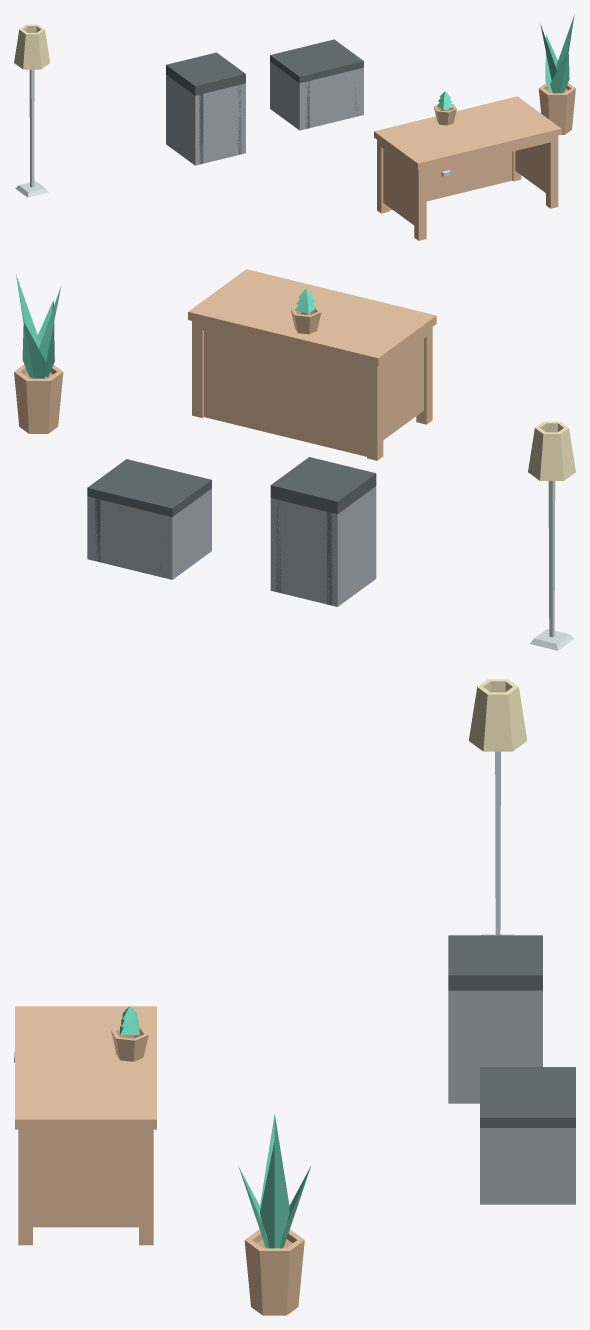
3 views of the same model, one above another, from view 1: azimuth 30°, elevation 25°; view 2: azimuth 150°, elevation 25°; view 3: azimuth 270°, elevation 25° (orthographic). The views are drawn at different scales.
Parts seen in each view (by area): view 1: desk_blue__desk(Clone), bin_gray__bin_gray shell, crate_red__crate_red shell, crate_red__crate_red lid, lamp_white__lampRoundFloor(Clone), bin_gray__bin_gray lid, plant_pink__pottedPlant(Clone), plant_pink__plant, flowerpot_green__plantSmall1(Clone), desk_blue__drawer, bin_gray__bin_gray band; view 2: desk_blue__desk(Clone), bin_gray__bin_gray shell, crate_red__crate_red shell, crate_red__crate_red lid, bin_gray__bin_gray lid, lamp_white__lampRoundFloor(Clone), plant_pink__pottedPlant(Clone), plant_pink__plant, flowerpot_green__plantSmall1(Clone), bin_gray__bin_gray band, crate_red__crate_red band.001; view 3: desk_blue__desk(Clone), bin_gray__bin_gray shell, crate_red__crate_red shell, crate_red__crate_red lid, bin_gray__bin_gray lid, lamp_white__lampRoundFloor(Clone), plant_pink__pottedPlant(Clone), plant_pink__plant, flowerpot_green__plantSmall1(Clone).
Boxes of the visible parts, x1,y1,x2,y2 form: desk_blue__desk(Clone): (374,96,561,240); bin_gray__bin_gray shell: (166,74,245,165); crate_red__crate_red shell: (270,62,363,130); crate_red__crate_red lid: (270,39,363,82); lamp_white__lampRoundFloor(Clone): (14,24,50,197); bin_gray__bin_gray lid: (166,52,245,95); plant_pink__pottedPlant(Clone): (538,83,575,134); plant_pink__plant: (540,14,574,93); flowerpot_green__plantSmall1(Clone): (433,91,456,125); desk_blue__drawer: (426,163,464,182); bin_gray__bin_gray band: (171,63,203,164); desk_blue__desk(Clone): (188,269,436,460); bin_gray__bin_gray shell: (270,486,376,606); crate_red__crate_red shell: (87,488,211,579); crate_red__crate_red lid: (87,459,211,516); bin_gray__bin_gray lid: (270,457,376,514); lamp_white__lampRoundFloor(Clone): (528,421,575,650); plant_pink__pottedPlant(Clone): (14,364,63,433); plant_pink__plant: (16,274,61,378); flowerpot_green__plantSmall1(Clone): (290,288,321,334); bin_gray__bin_gray band: (327,471,370,605); crate_red__crate_red band.001: (94,461,138,561); desk_blue__desk(Clone): (15,1006,156,1245); bin_gray__bin_gray shell: (448,990,542,1103); crate_red__crate_red shell: (480,1128,575,1204); crate_red__crate_red lid: (480,1067,575,1127); bin_gray__bin_gray lid: (448,935,542,990); lamp_white__lampRoundFloor(Clone): (468,679,527,935); plant_pink__pottedPlant(Clone): (244,1229,304,1315); plant_pink__plant: (238,1114,310,1248); flowerpot_green__plantSmall1(Clone): (111,1006,148,1061).
Bounding box in the file's own units: 4.36 × 1.38 × 2.7.
